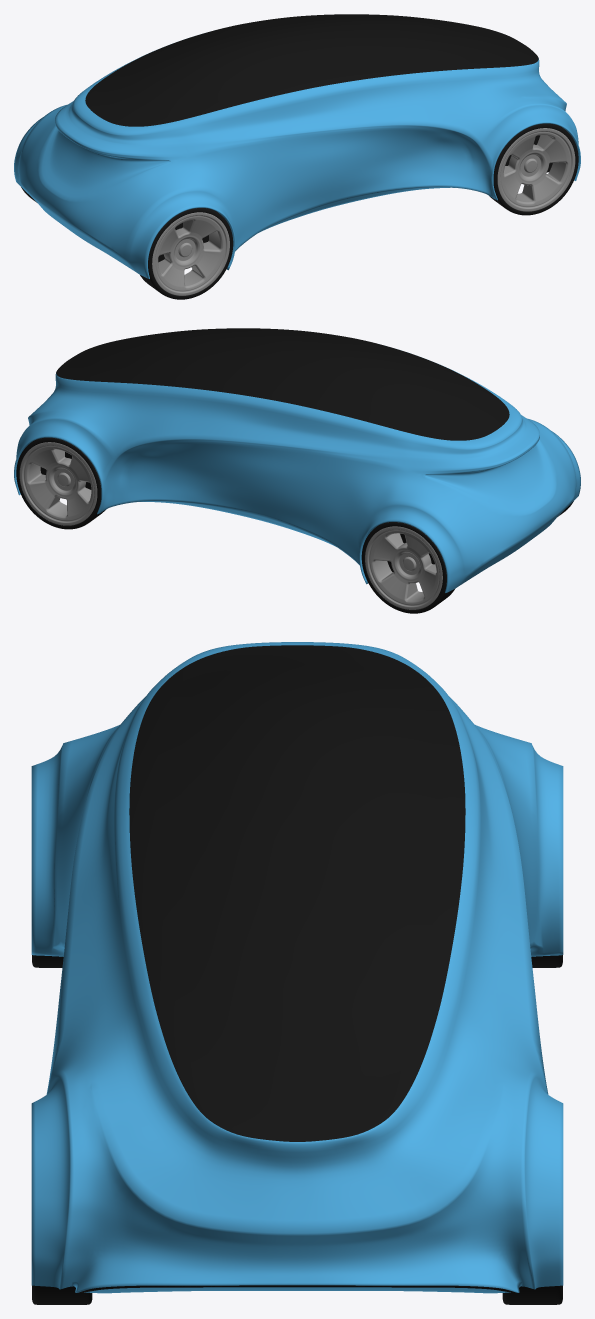
File: SM_AutomotiveTP_Car.glb
3 views of the same model, one above another, from view 1: azimuth 30°, elevation 25°; view 2: azimuth 150°, elevation 25°; view 3: azimuth 270°, elevation 25° (orthographic). The views are drawn at different scales.
Visible parts, largest first — view 1: SM_AutomotiveTP_Car; view 2: SM_AutomotiveTP_Car; view 3: SM_AutomotiveTP_Car.
Part boxes in pixels (x1=…): SM_AutomotiveTP_Car: x1=14, y1=14, x2=580, y2=299; SM_AutomotiveTP_Car: x1=14, y1=328, x2=580, y2=613; SM_AutomotiveTP_Car: x1=31, y1=642, x2=563, y2=1304.
Bounding box in the file's own units: 4.39 × 1.48 × 2.05.
